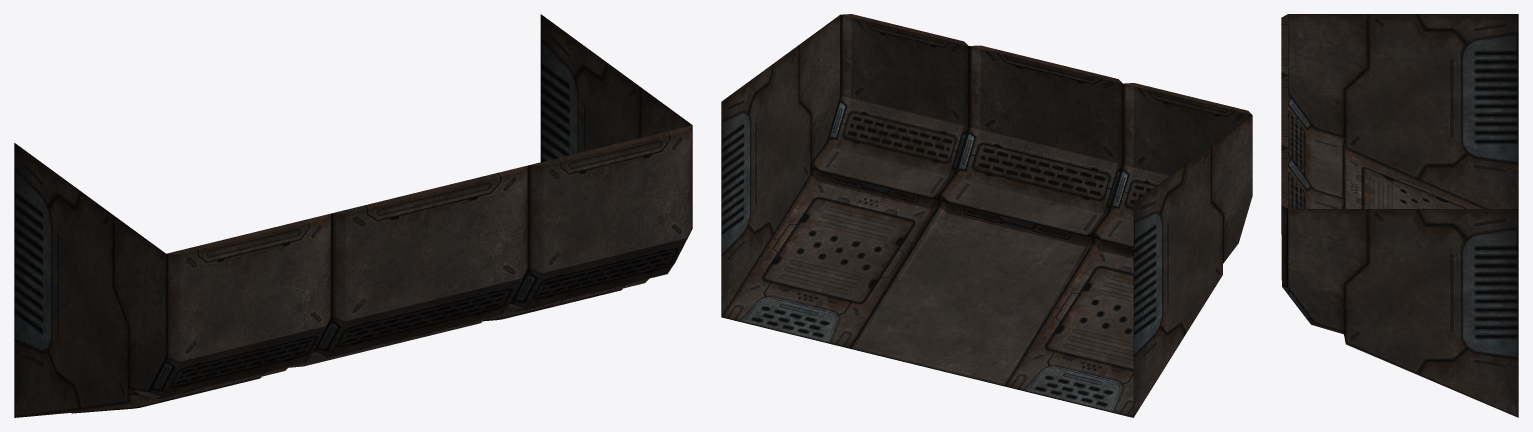
File: consoles01_brown.dae
3 renders of one model, left to right at view 1: azimuth 30°, elevation 25°; view 2: azimuth 150°, elevation 25°; view 3: azimuth 270°, elevation 25°, orthographic. The views are drawn at different scales.
Parts seen in each view (by area): view 1: polySurface128; view 2: polySurface128; view 3: polySurface128.
Boxes of the visible parts, x1,y1,x2,y2 form: polySurface128: [14, 14, 692, 417]; polySurface128: [721, 14, 1252, 417]; polySurface128: [1281, 14, 1518, 417].
Bounding box in the file's own units: 4 × 2 × 2.06.
Materials: 1 (1 with a texture image).
